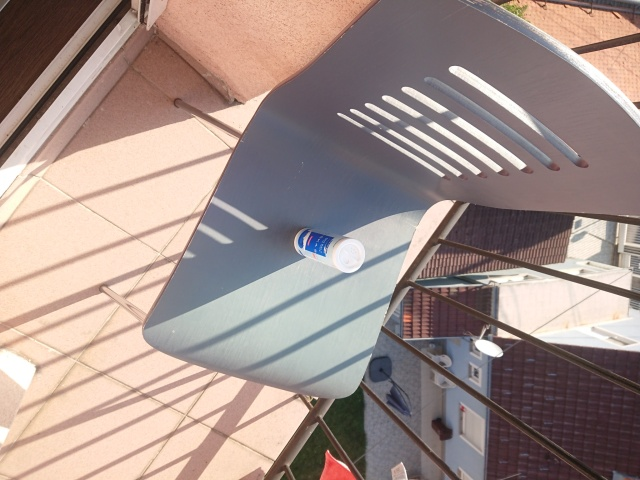Solana Pag Fine Sea Salt 250g: (291, 227, 367, 275)
